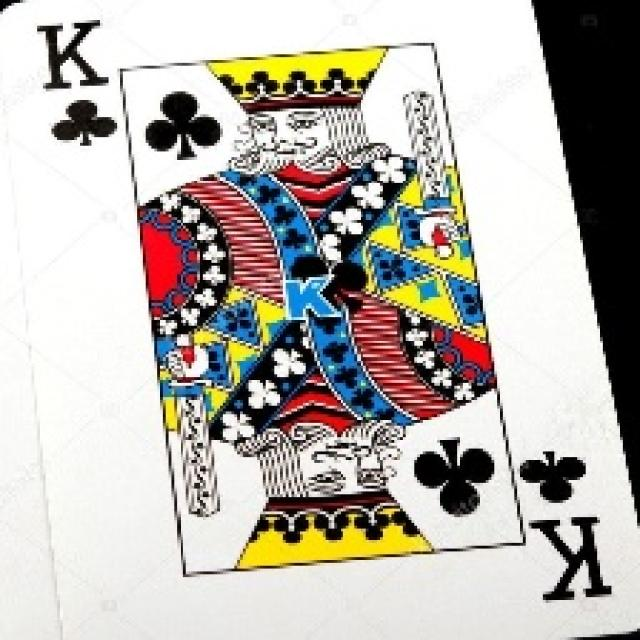Club: (414, 438, 494, 518), (144, 90, 222, 161), (520, 451, 586, 503), (51, 99, 117, 146)
King: (529, 517, 612, 600), (37, 22, 109, 90)
